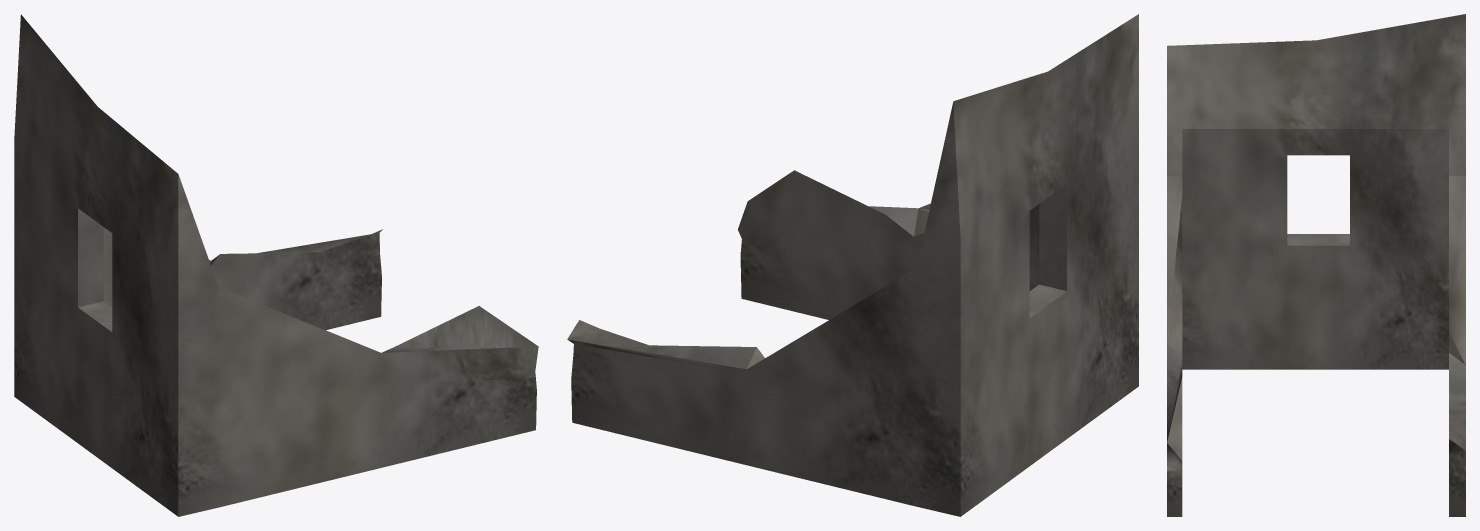
The model's file is house2.gltf.
3 views of the same model, side by side, from view 1: azimuth 30°, elevation 25°; view 2: azimuth 150°, elevation 25°; view 3: azimuth 270°, elevation 25° (orthographic). The views are drawn at different scales.
Parts seen in each view (by area): view 1: house2_atomic0; view 2: house2_atomic0; view 3: house2_atomic0.
Boxes of the visible parts, x1,y1,x2,y2 form: house2_atomic0: (14,14,538,516); house2_atomic0: (567,14,1138,516); house2_atomic0: (1167,14,1465,516).
Size of the model in its own units: 53.03 by 53.38 by 41.63.
Materials: 1 (1 with a texture image).
